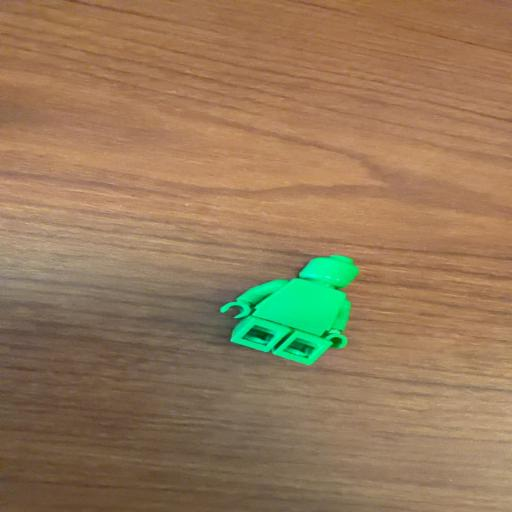UnoQ-minifig-detector: (219, 255, 358, 365)
